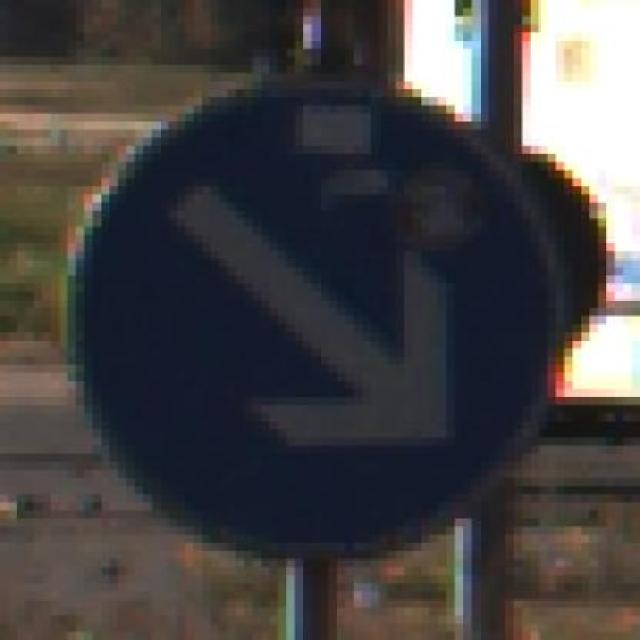Keep-Right: (59, 48, 582, 584)
